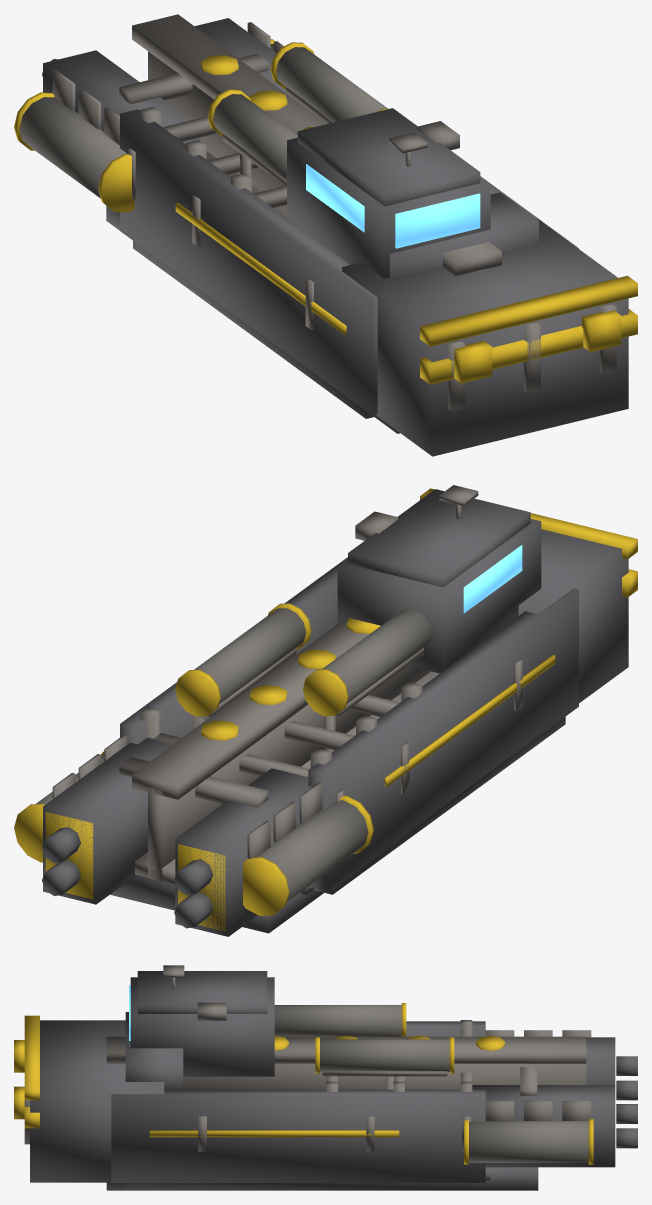
Rendered from mothership.glb.
3 views of the same model, one above another, from view 1: azimuth 30°, elevation 25°; view 2: azimuth 150°, elevation 25°; view 3: azimuth 270°, elevation 25° (orthographic). The views are drawn at different scales.
Parts seen in each view (by area): view 1: MiningMothership; view 2: MiningMothership; view 3: MiningMothership.
Part boxes in pixels (<box>): MiningMothership: <box>14,14,637,456</box>; MiningMothership: <box>14,485,637,936</box>; MiningMothership: <box>14,965,637,1190</box>.
Bounding box in the file's own units: 4.86 × 4.2 × 13.01.
